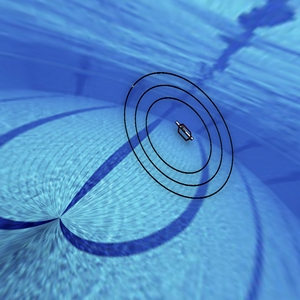circle: (108, 53, 252, 208)
submarine: (169, 114, 196, 145)
